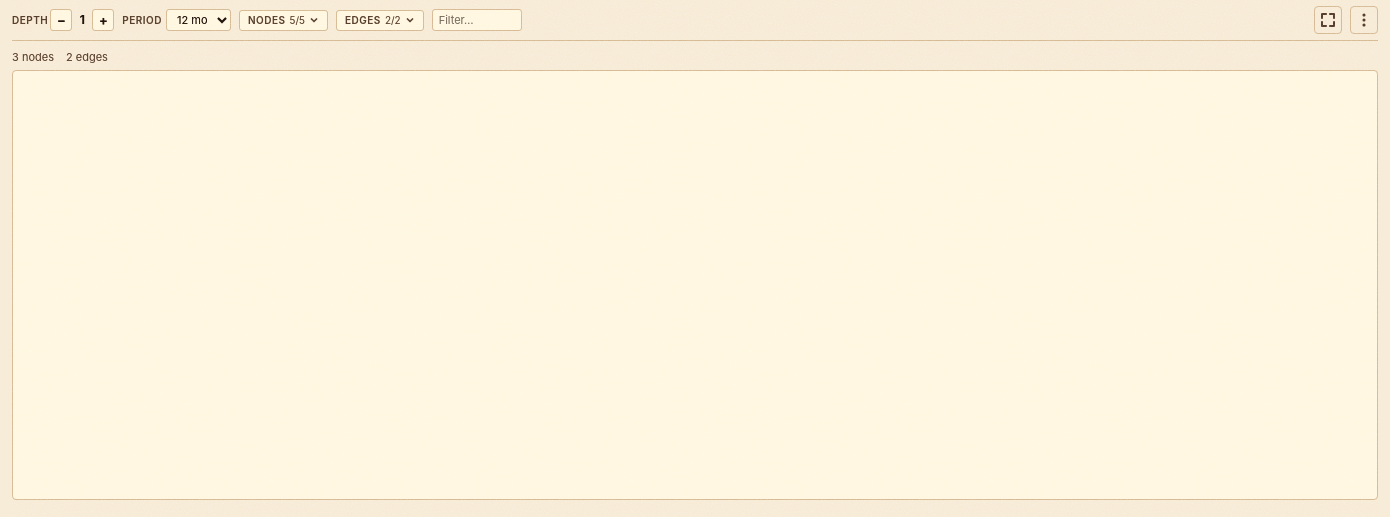
GraphExplorer › has a "Find path to…" toggle button in options menu
Click the button with test id "ge-options-btn" at (1364, 20), box left=1350, top=6, right=1378, bottom=34
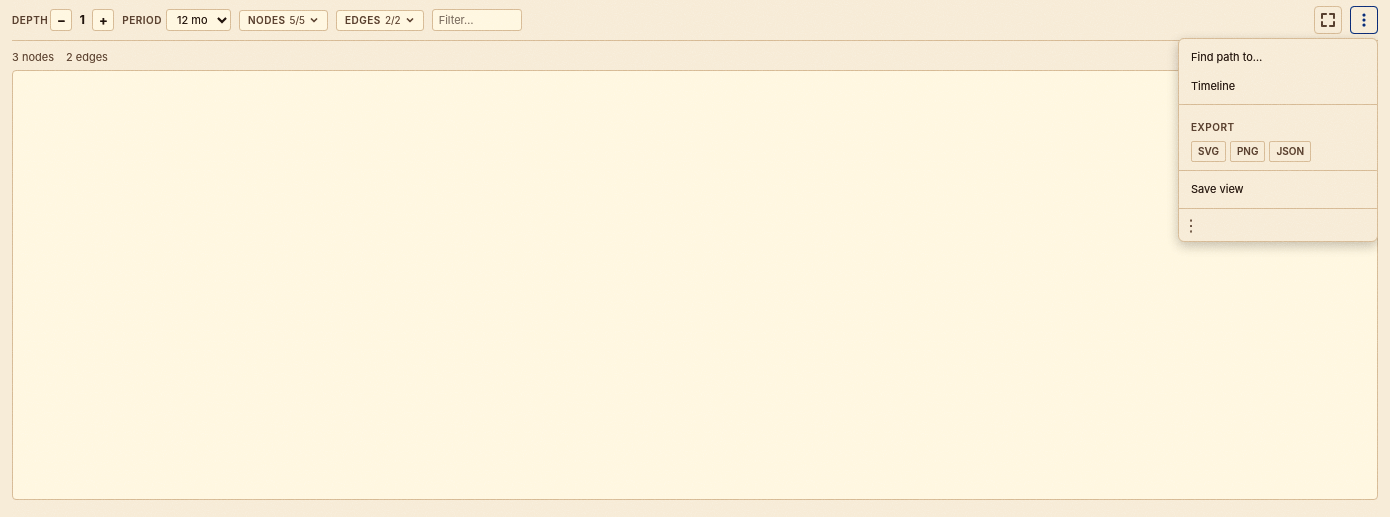
Now the button with test id "ge-path-toggle" shows "Find path to", box left=1179, top=43, right=1377, bottom=72
